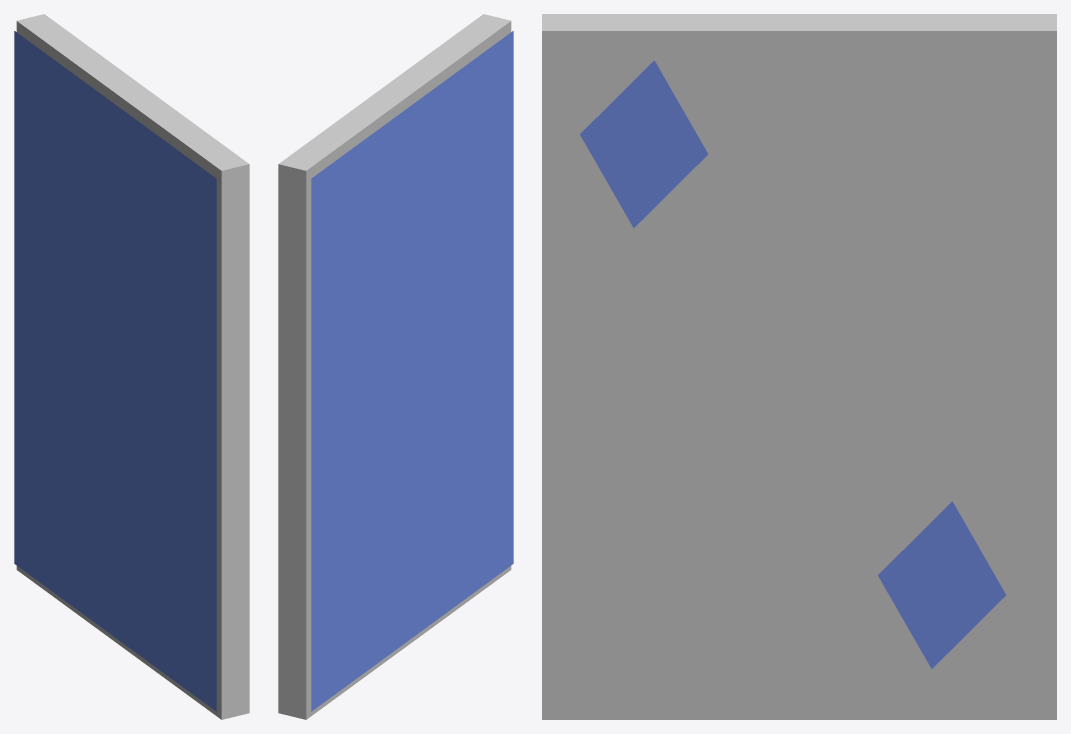
Rendered from card.fbx.
3 views of the same model, side by side, from view 1: azimuth 30°, elevation 25°; view 2: azimuth 150°, elevation 25°; view 3: azimuth 270°, elevation 25° (orthographic). The views are drawn at different scales.
Visible parts, largest first — view 1: Plane, Cube; view 2: Plane, Cube; view 3: Cube, Plane.001, Plane.002.
Boxes of the visible parts, x1,y1,x2,y2 form: Plane: (14, 31, 216, 711); Cube: (16, 14, 249, 719); Plane: (311, 31, 513, 711); Cube: (278, 14, 511, 719); Cube: (542, 14, 1056, 719); Plane.001: (580, 60, 708, 227); Plane.002: (878, 501, 1006, 668).
Bounding box in the file's own units: 9.12 × 136 × 91.91.
